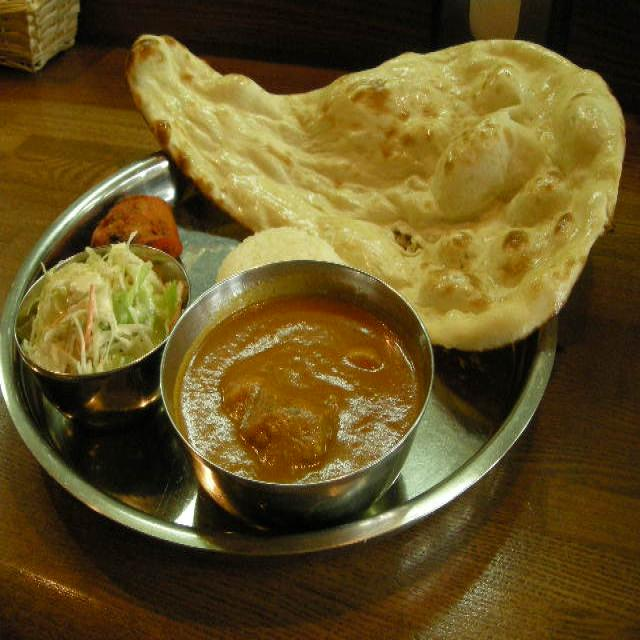牛肉菜式: (160, 251, 436, 493)
蔬菜料理: (8, 234, 192, 378)
